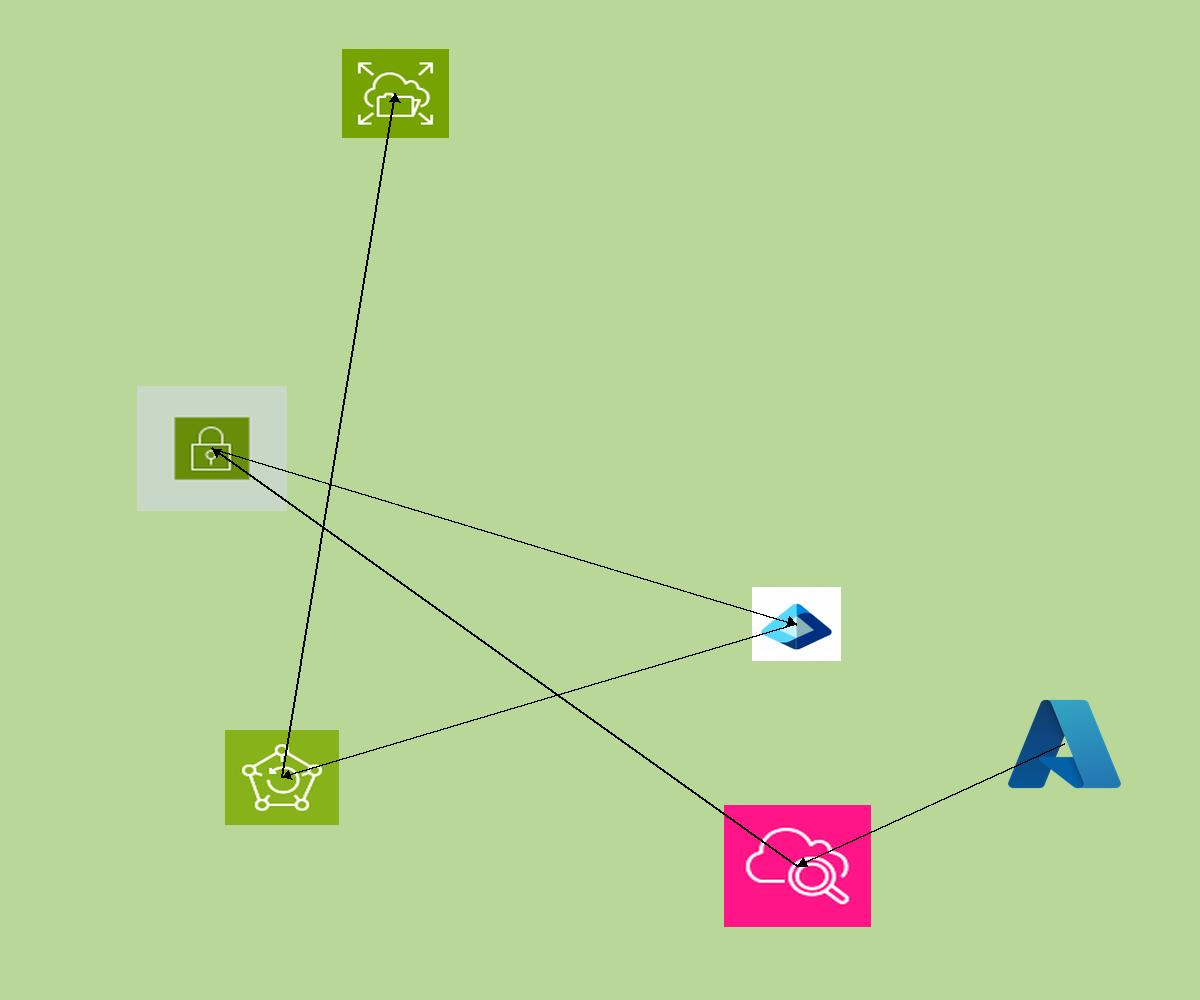AWS-Backup: (225, 730, 339, 825)
AWS-CloudWatch: (724, 805, 871, 927)
AWS-EFS: (342, 49, 449, 138)
AWS-Public-subnet: (137, 386, 287, 511)
Azure_microsoft_entra: (752, 587, 841, 661)
Azure_services: (1003, 693, 1126, 795)
